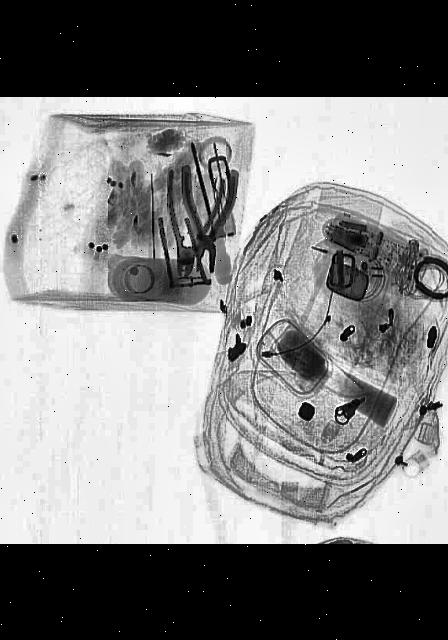Pliers: (154, 166, 226, 280), (173, 164, 239, 272)
